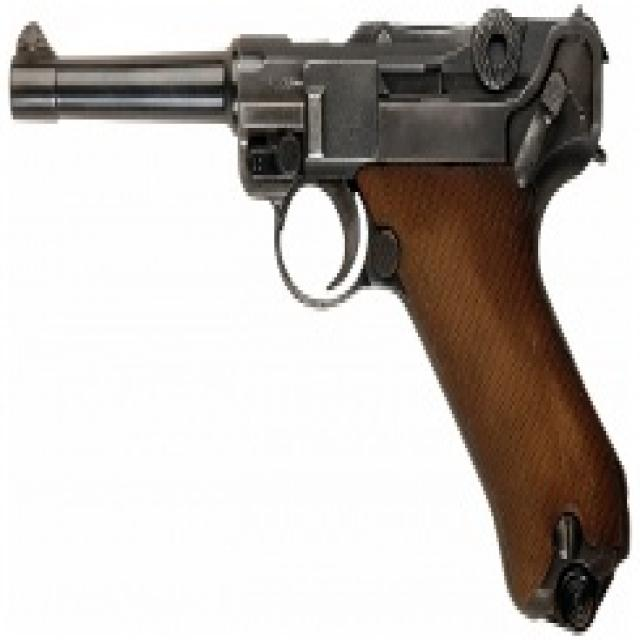pistol: (8, 7, 640, 640)
